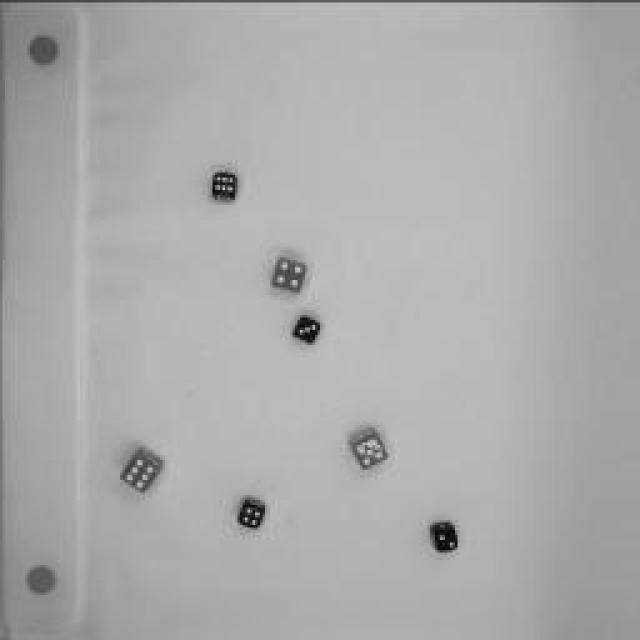dice_2: (425, 518, 465, 558)
dice_3: (290, 310, 325, 350)
dice_4: (268, 252, 310, 298), (231, 493, 269, 535)
dice_5: (344, 422, 396, 472)
dice_6: (112, 442, 168, 498), (208, 166, 242, 204)
